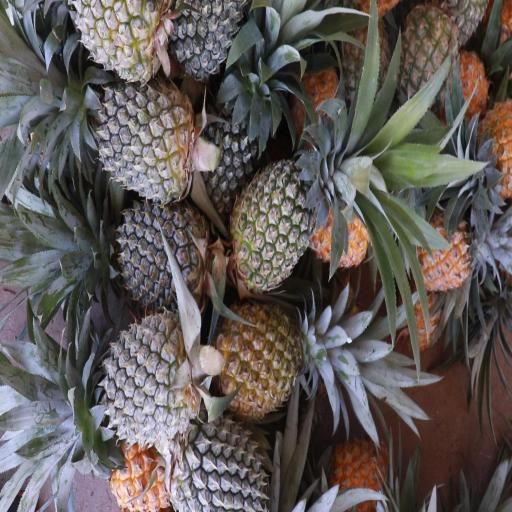------------------------------: (234, 163, 334, 287), (216, 300, 308, 413), (76, 0, 170, 89), (396, 2, 461, 106)
Pineapple - v8 v1: (416, 208, 477, 292), (311, 182, 370, 267)
